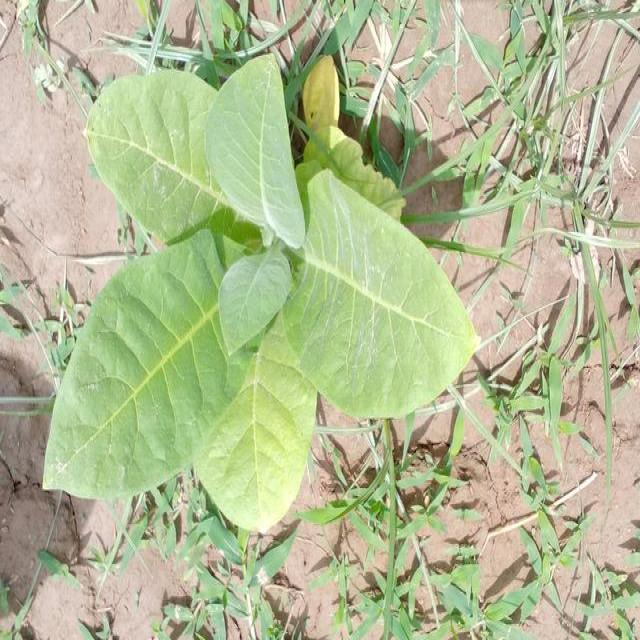crop: (38, 63, 476, 527)
